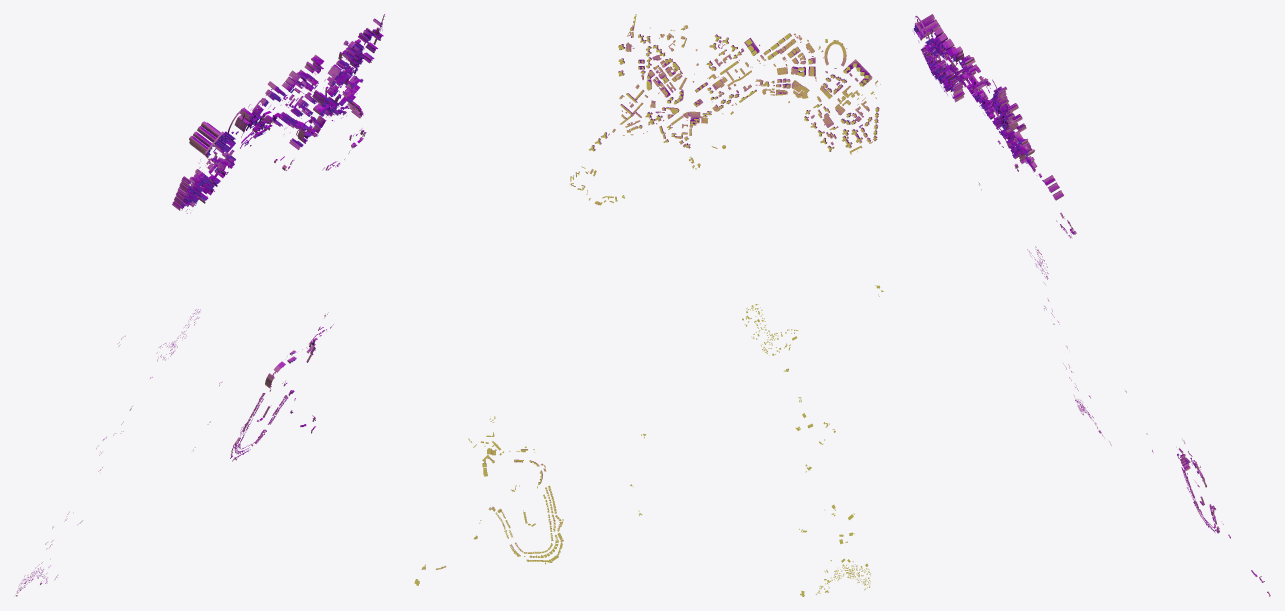
3 renders of one model, left to right at view 1: azimuth 30°, elevation 25°; view 2: azimuth 150°, elevation 25°; view 3: azimuth 270°, elevation 25°, orthographic. The views are drawn at different scales.
Parts seen in each view (by area): view 1: geometry_0; view 2: geometry_0; view 3: geometry_0.
Part boxes in pixels (x1,y1,x2,y2): geometry_0: (14,14,384,596); geometry_0: (414,14,883,596); geometry_0: (913,14,1270,596).
Size of the model in its own units: 3300 by 4279 by 2897.
